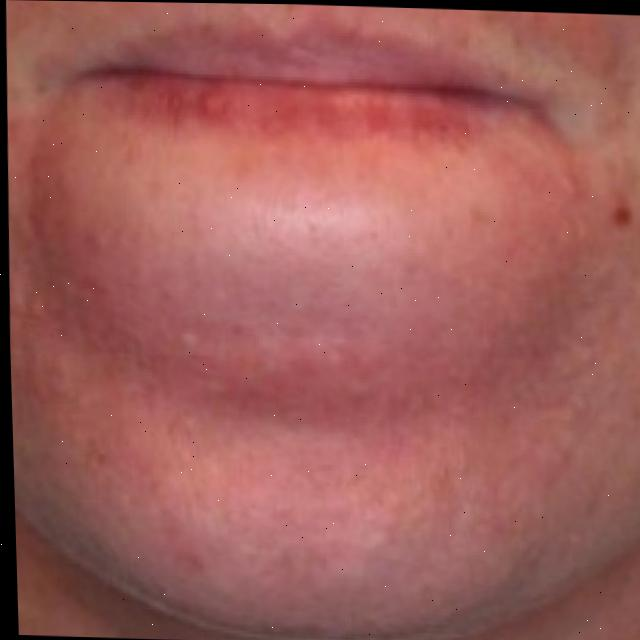Acne: (5, 162, 602, 532)
